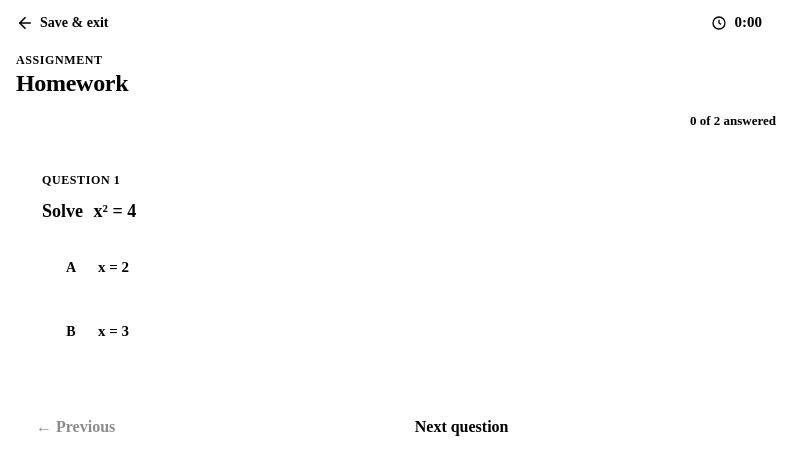
Test case: AssignmentRunnerComponent (FR-STU-ASG-001..006) › updates the "X of Y answered" progress after an answer
The width and height of the screenshot is (793, 453).
What coordinates should you click on to do the following:
click the radio button with class "run-opt" showing "A x = 2"
I would click on:
 (114, 267)
Its box is [42,241,750,295].
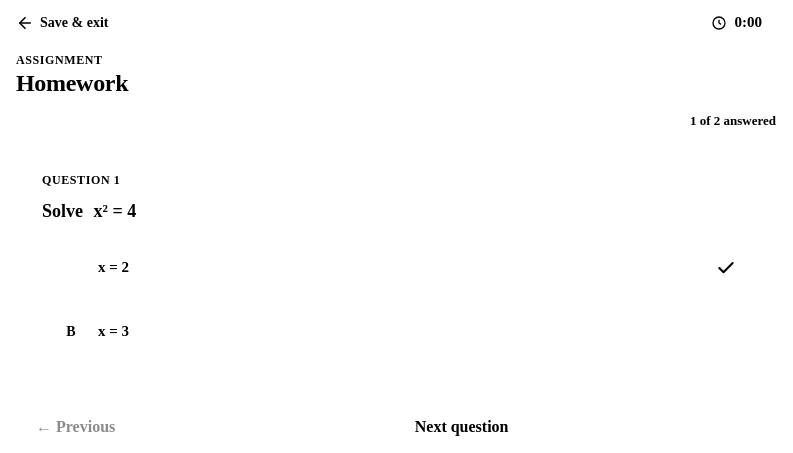
expect the text with class "run__count" reads "1 of 2 answered": met, box [690,113,776,128]
